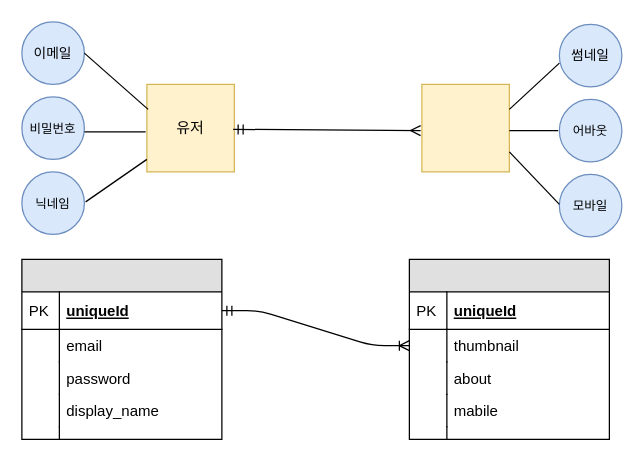
The diagram is 644 pixels wide and 461 high, and some of its shapes have lost their labels. Each missing label, with the box of its shape:
user_profile: (408, 258, 609, 439)
users: (21, 258, 222, 439)
유저 프로파일: (421, 83, 509, 172)
